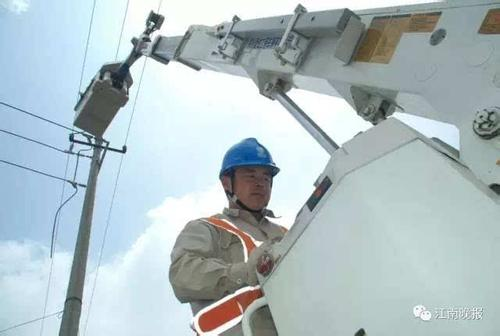gloves: (247, 238, 280, 286)
hard-hat: (219, 136, 280, 178)
person: (168, 136, 289, 335)
vest: (168, 204, 289, 330)
